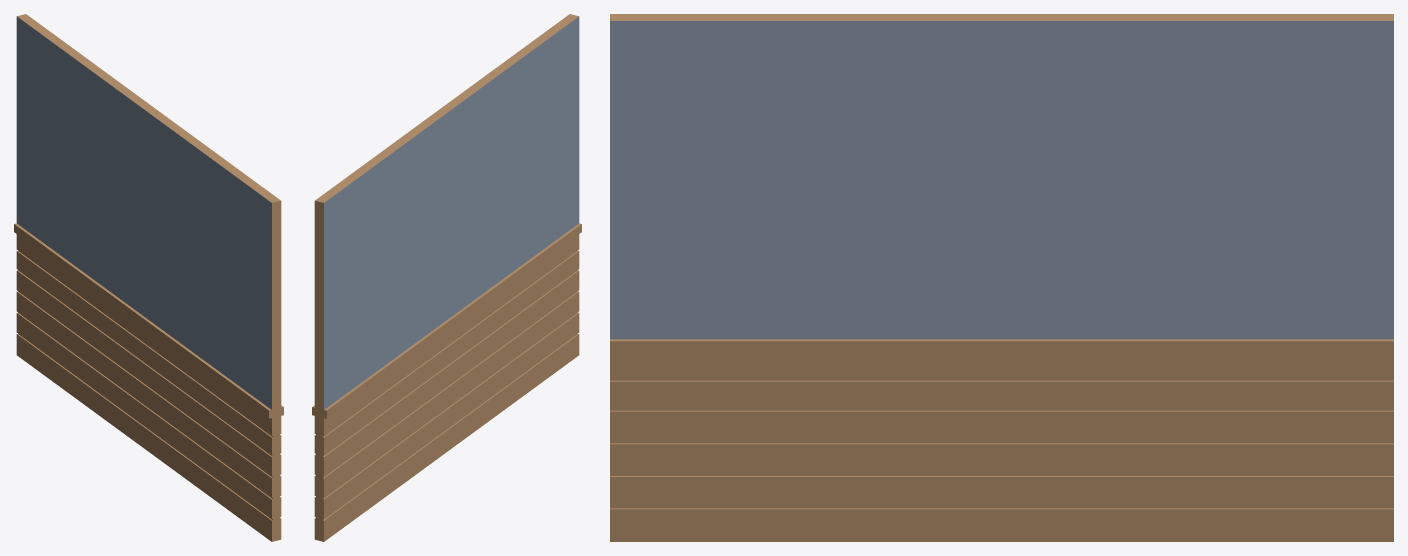
File: Int. Wall.glb
3 renders of one model, left to right at view 1: azimuth 30°, elevation 25°; view 2: azimuth 150°, elevation 25°; view 3: azimuth 270°, elevation 25°, orthographic. The views are drawn at different scales.
Parts seen in each view (by area): view 1: Int. Wall; view 2: Int. Wall; view 3: Int. Wall.
Part boxes in pixels (x1,y1,x2,y2): Int. Wall: (14, 14, 283, 541); Int. Wall: (312, 14, 581, 541); Int. Wall: (610, 14, 1393, 541).
Bounding box in the file's own units: 10 × 220 × 300.
